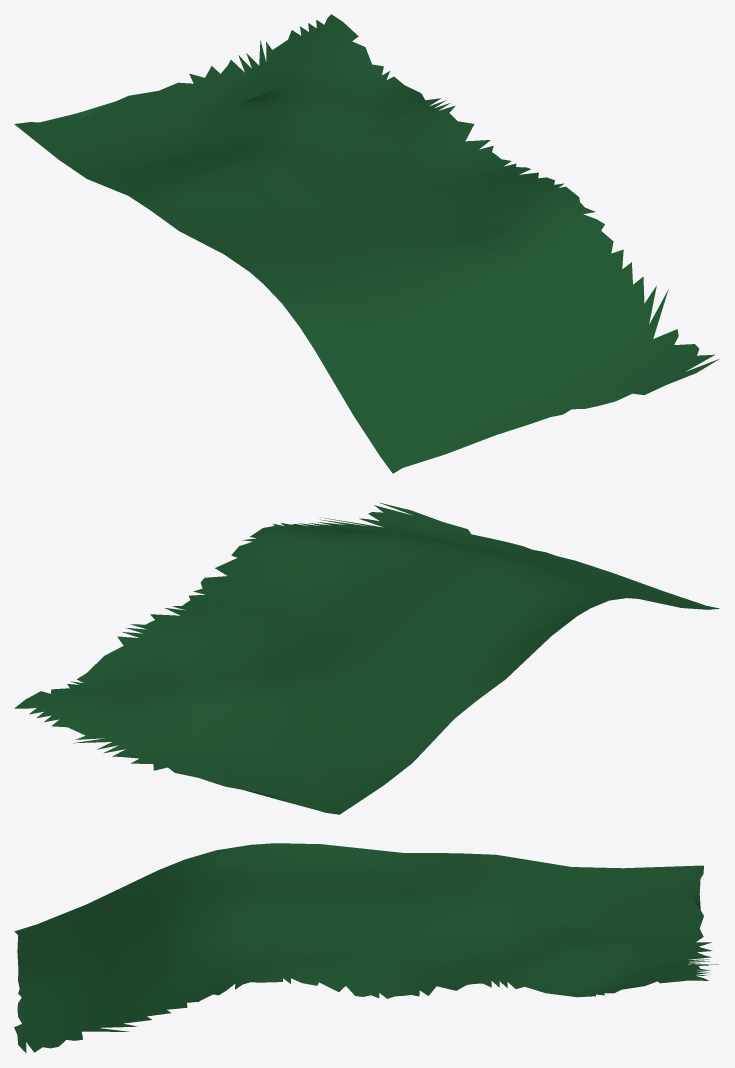
File: payo_land_x4_ym1_lod2.glb
3 views of the same model, one above another, from view 1: azimuth 30°, elevation 25°; view 2: azimuth 150°, elevation 25°; view 3: azimuth 270°, elevation 25° (orthographic). The views are drawn at different scales.
Parts seen in each view (by area): view 1: payo_land_x4_ym1; view 2: payo_land_x4_ym1; view 3: payo_land_x4_ym1.
Boxes of the visible parts, x1,y1,x2,y2 form: payo_land_x4_ym1: [14, 14, 719, 473]; payo_land_x4_ym1: [14, 502, 719, 814]; payo_land_x4_ym1: [14, 843, 718, 1053].
Size of the model in its own units: 134 by 38.49 by 264.
